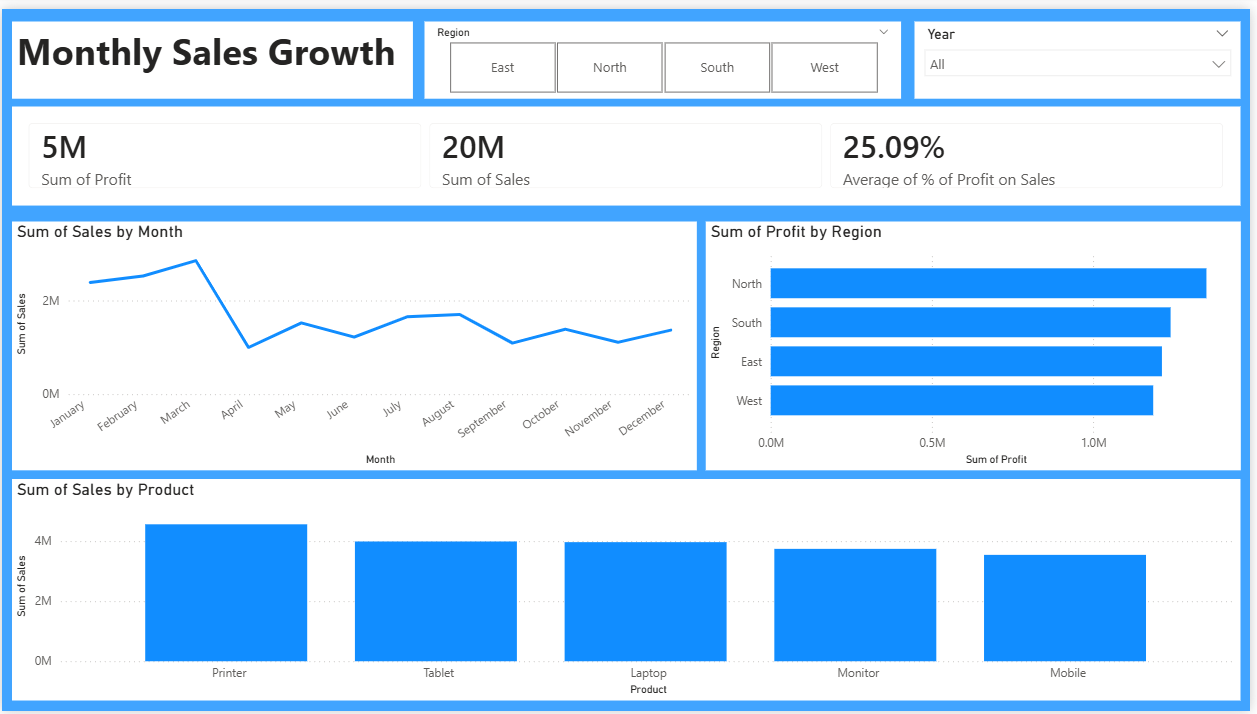

The dashboard page shown, as its layout file describes it:
{"tool":"powerbi","page":{"name":"Page 1","canvas":[1280,720],"ordinal":0},"visuals":[{"type":"cardVisual","fields":{"Data":["Sum(salesdb sales_data.Profit)","Sum(salesdb sales_data.Sales)","Avg(salesdb sales_data.% of Profit on Sales)"]},"box":[10.3,100,1260.3,101.3],"z":0},{"type":"lineChart","fields":{"Y":["Sum(salesdb sales_data.Sales)"],"Category":["salesdb sales_data.Order_Date.Variation.Date Hierarchy.Month"]},"box":[10.3,217.9,702.6,255.1],"z":1000},{"type":"barChart","fields":{"Category":["salesdb sales_data.Region"],"Y":["Sum(salesdb sales_data.Profit)"]},"box":[721.8,217.9,548.7,255.1],"z":2000},{"type":"columnChart","fields":{"Y":["Sum(salesdb sales_data.Sales)"],"Category":["salesdb sales_data.Product"]},"box":[10.3,482.1,1260.3,226.9],"z":3000},{"type":"slicer","fields":{"Values":["salesdb sales_data.Order_Date.Variation.Date Hierarchy.Year"]},"box":[935.9,12.8,334.6,79.5],"z":3001},{"type":"slicer","fields":{"Values":["salesdb sales_data.Region"]},"box":[433.3,12.8,488.5,79.5],"z":3003},{"type":"textbox","box":[10.3,12.8,411.5,79.5],"z":3004}]}

Visuals, with their boxes in screenshot pixels (x1, y1, x2, y2), scaled from the page's 1280x720 canvas onto the 1257x714 screenshot:
cardVisual - Sum(salesdb sales_data.Profit) x Sum(salesdb sales_data.Sales): bbox=[10, 99, 1248, 200]
lineChart - Sum(salesdb sales_data.Sales) x salesdb sales_data.Order_Date.Variation.Date Hierarchy.Month: bbox=[10, 216, 700, 469]
barChart - salesdb sales_data.Region x Sum(salesdb sales_data.Profit): bbox=[709, 216, 1248, 469]
columnChart - Sum(salesdb sales_data.Sales) x salesdb sales_data.Product: bbox=[10, 478, 1248, 703]
slicer - salesdb sales_data.Order_Date.Variation.Date Hierarchy.Year: bbox=[919, 13, 1248, 92]
slicer - salesdb sales_data.Region: bbox=[426, 13, 905, 92]
textbox: bbox=[10, 13, 414, 92]
